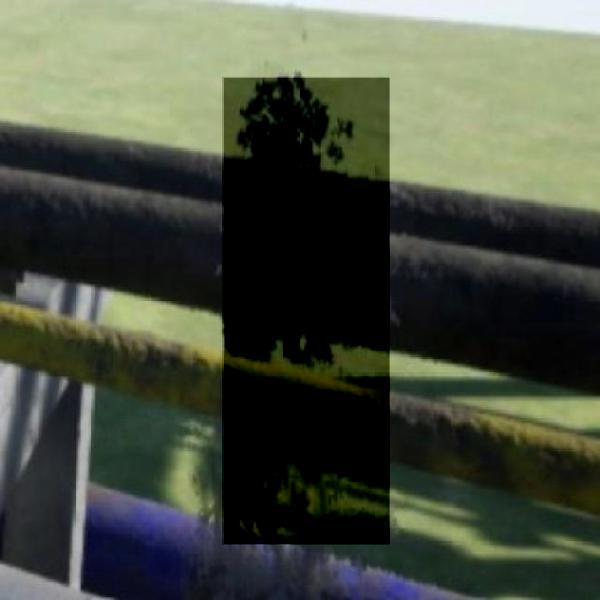gas: (224, 78, 390, 544)
